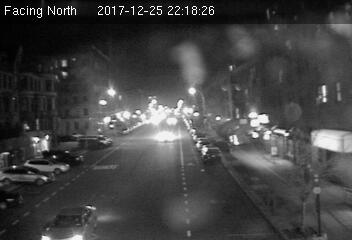car: (39, 199, 101, 240), (157, 130, 175, 143)
